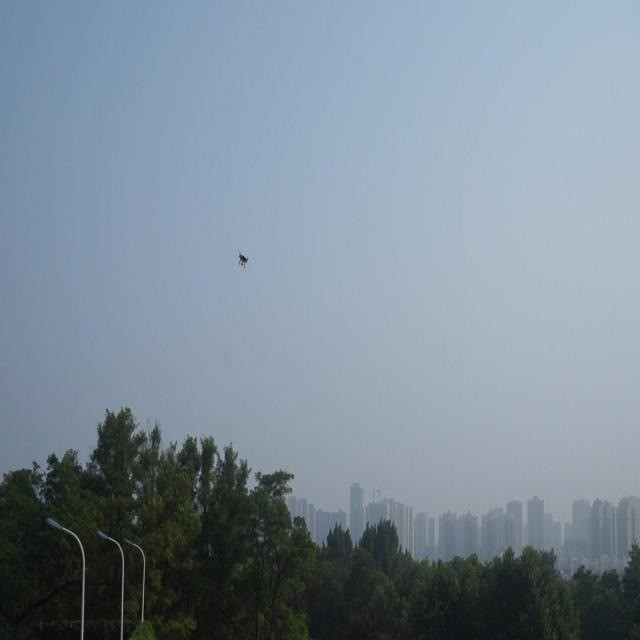UAV: (238, 250, 248, 268)
